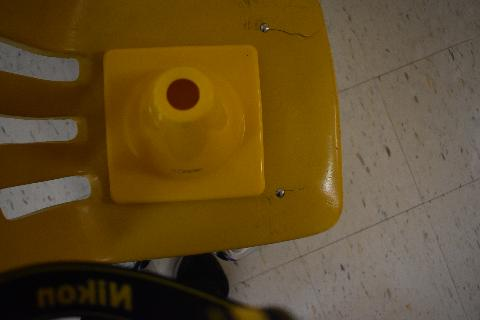cone: (103, 46, 265, 202)
